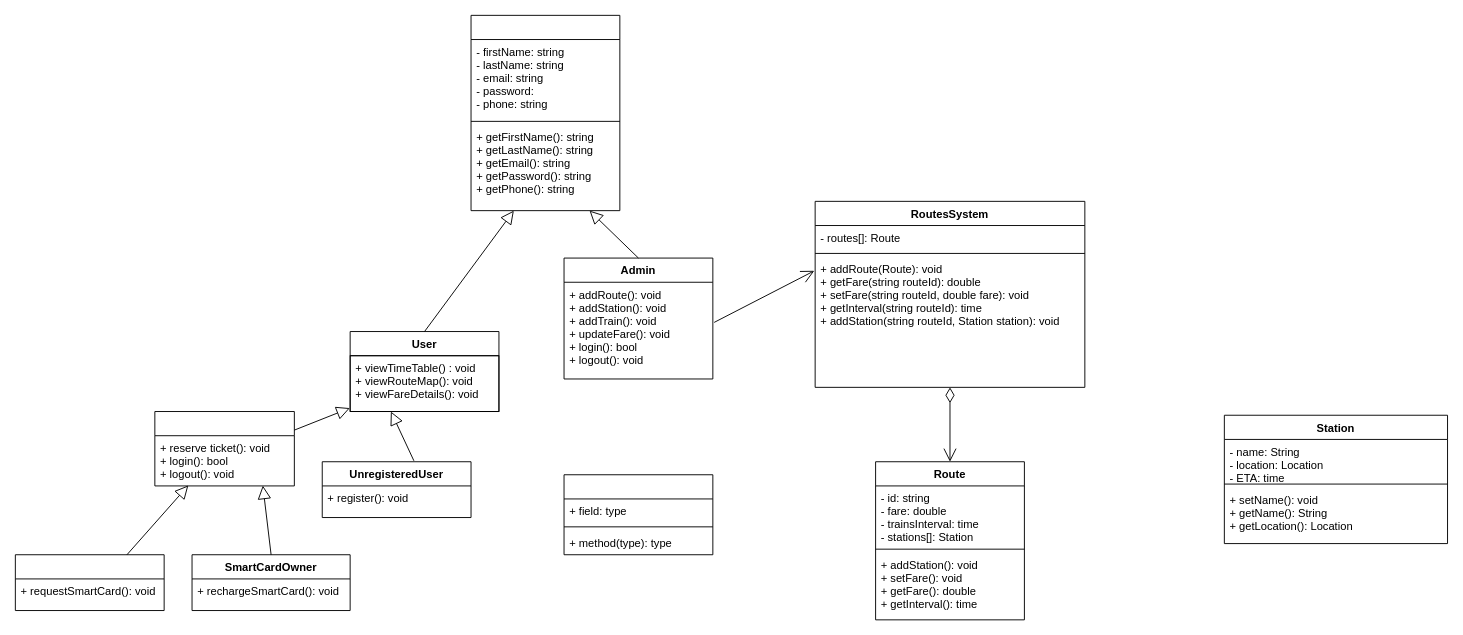
The diagram is 1463 pixels wide and 635 high, and some of its shapes have lost their labels. Each missing label, with the box of its shape:
Classname: (563, 474, 713, 555)
Person: (470, 14, 620, 211)
RegisteredUser: (154, 411, 294, 486)
RegularUser: (14, 554, 164, 611)
